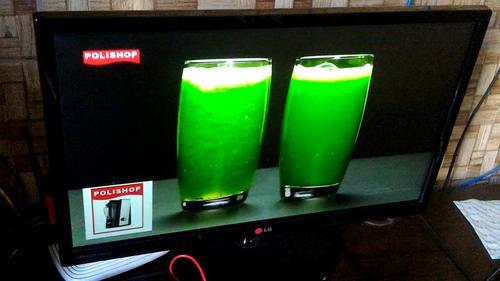Polishop #1: (82, 179, 153, 239)
